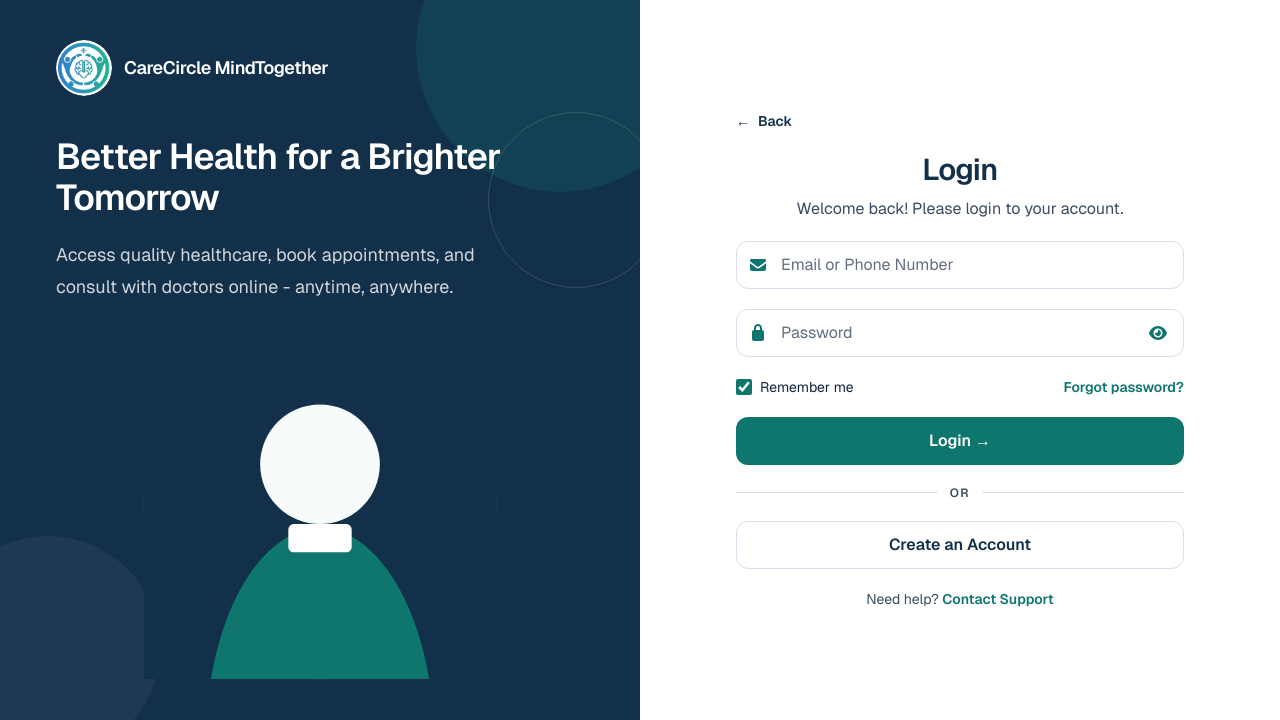
login form › links to the real recovery and registration pages and blocks an empty submit
The image size is (1280, 720).
Expected: the picture named "Illustrated clinician" is shown, x1=144 y1=327 x2=496 y2=679
Expected: the heading "Login" is shown, x1=922 y1=150 x2=998 y2=189
Click the button named "Show password". click: (1158, 333)
box: x1=1136 y1=311 x2=1180 y2=355
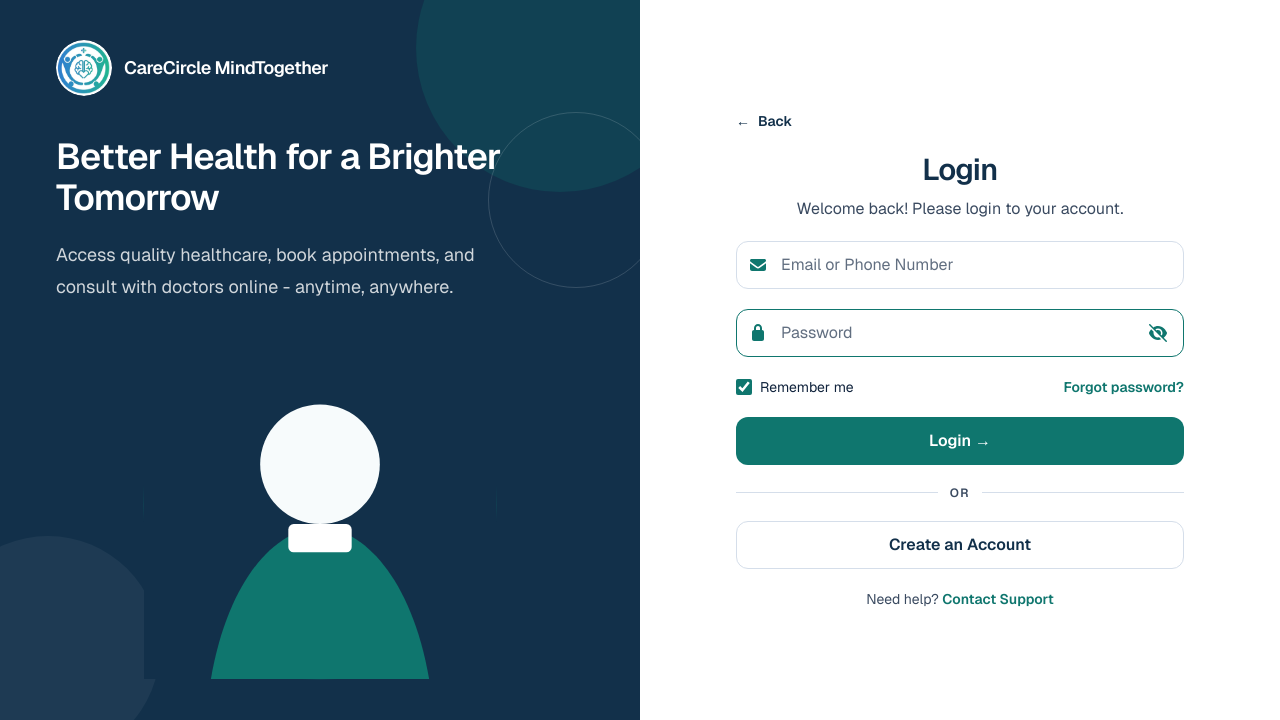
Click the button "Login →". click: (960, 441)
box: x1=736 y1=417 x2=1184 y2=465
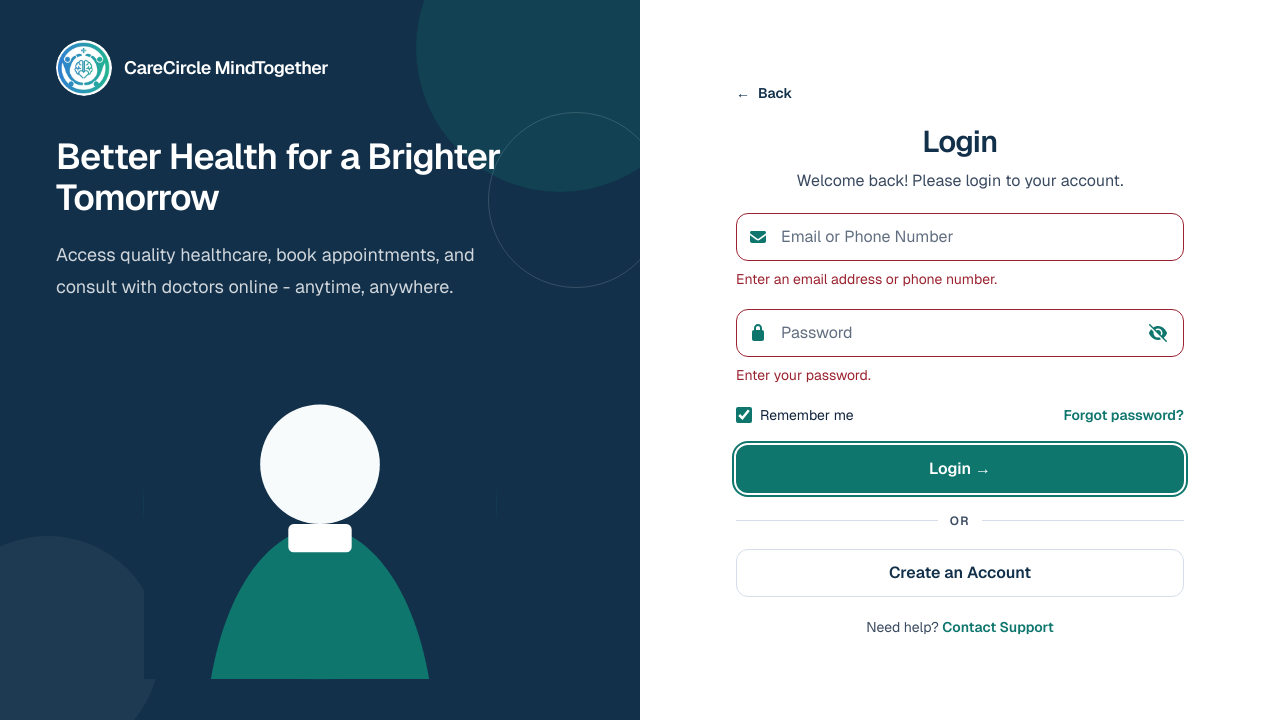
Expected: the text "Enter an email address or phone number." is shown, x1=736 y1=270 x2=997 y2=288
